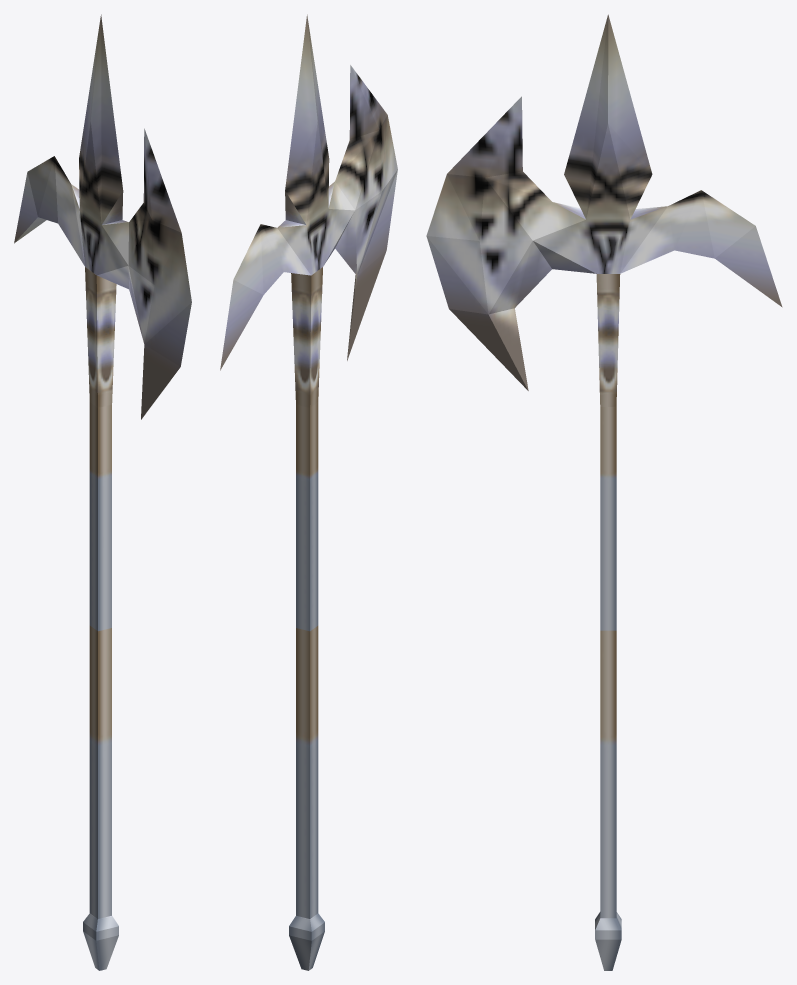
Rendered from longarm02.obj.
The picture shows the model from 3 angles, left to right: view 1: azimuth 30°, elevation 25°; view 2: azimuth 150°, elevation 25°; view 3: azimuth 270°, elevation 25°; orthographic projection.
Parts seen in each view (by area): view 1: longarm02; view 2: longarm02; view 3: longarm02.
Boxes of the visible parts, box(x1,y1,x2,y2) form: longarm02: box(14, 14, 191, 970); longarm02: box(220, 14, 397, 970); longarm02: box(426, 14, 782, 970).
Size of the model in its own units: 0.0597 by 2.38 by 0.8045.
